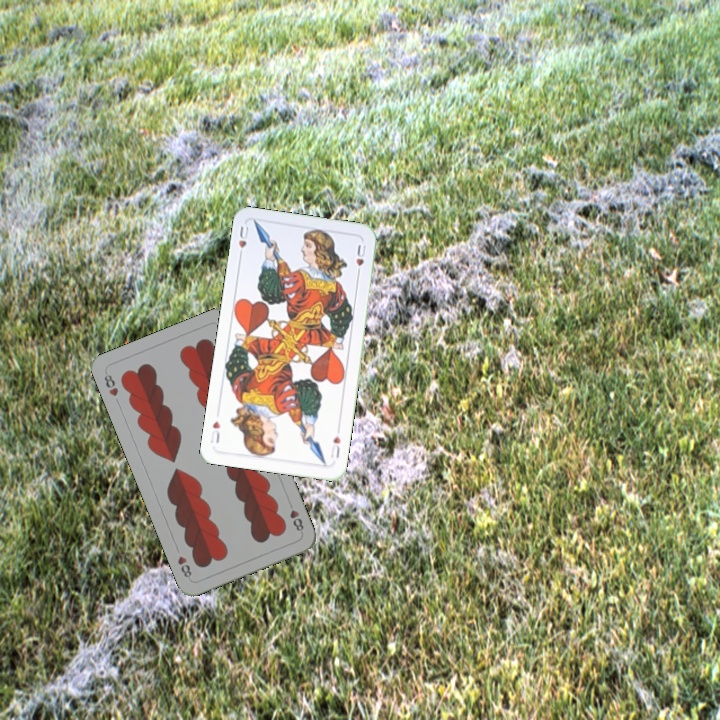H8: (100, 368, 121, 399), (286, 505, 306, 534)
HU: (234, 222, 251, 261), (327, 432, 343, 460)
